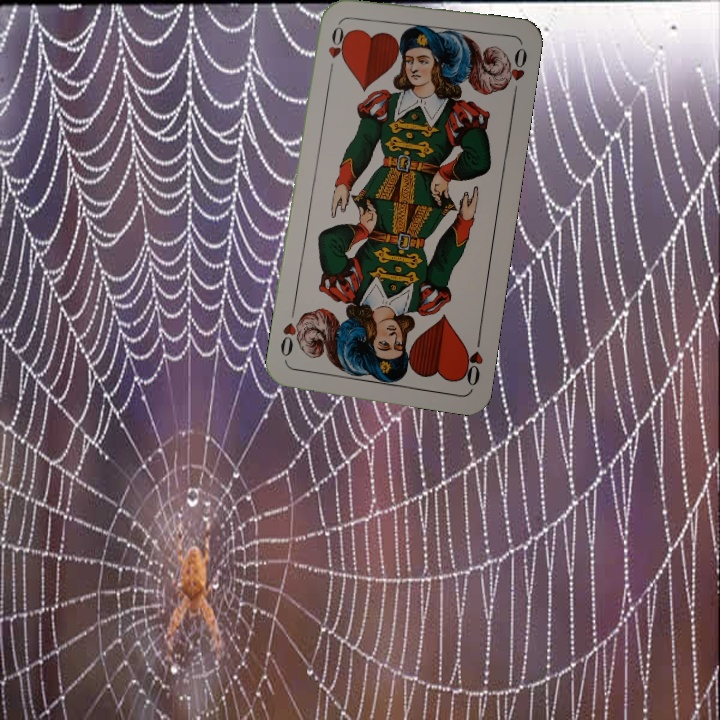HO: (458, 330, 486, 389), (324, 17, 347, 76)
